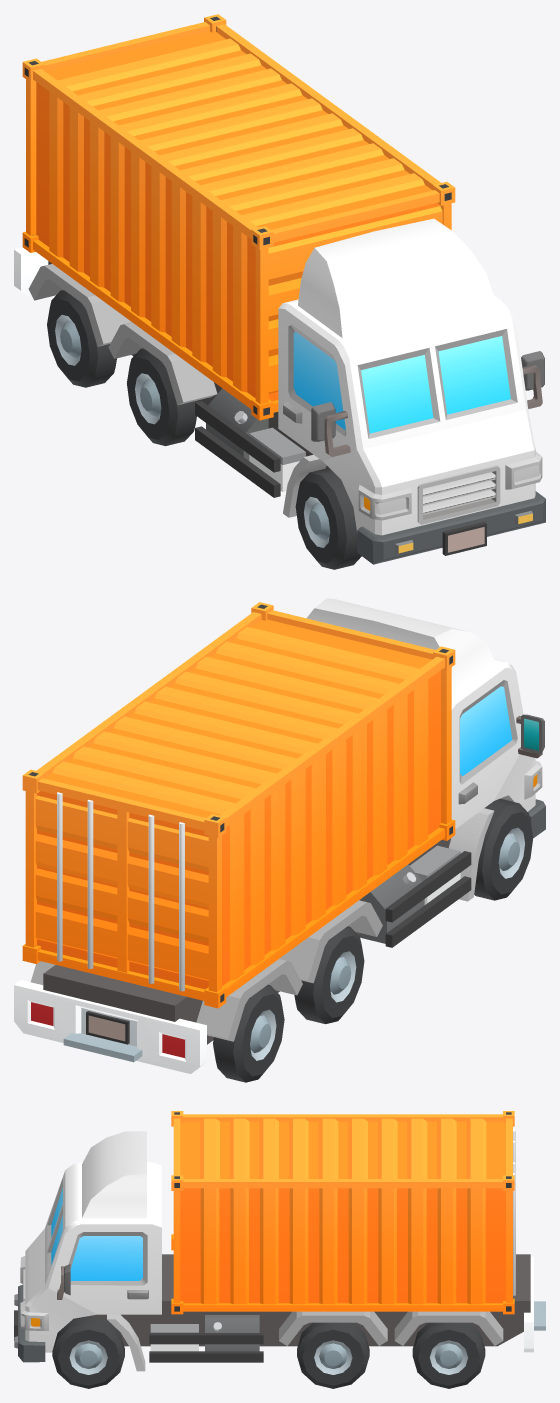
The model's file is Container_Truck_01.glb.
3 views of the same model, one above another, from view 1: azimuth 30°, elevation 25°; view 2: azimuth 150°, elevation 25°; view 3: azimuth 270°, elevation 25° (orthographic). The views are drawn at different scales.
Visible parts, largest first — view 1: Container_Truck_01, Wheel_177, Wheel_178, Wheel_179; view 2: Container_Truck_01, Wheel_177, Wheel_179, Wheel_178; view 3: Container_Truck_01, Wheel_180, Wheel_182, Wheel_181.
Part boxes in pixels (bbox=[...]): Container_Truck_01: bbox=[14, 14, 545, 564]; Wheel_177: bbox=[295, 468, 361, 569]; Wheel_178: bbox=[127, 348, 197, 446]; Wheel_179: bbox=[47, 290, 116, 387]; Container_Truck_01: bbox=[14, 598, 545, 1073]; Wheel_177: bbox=[474, 798, 533, 900]; Wheel_179: bbox=[213, 985, 284, 1082]; Wheel_178: bbox=[294, 926, 364, 1024]; Container_Truck_01: bbox=[14, 1111, 545, 1371]; Wheel_180: bbox=[52, 1316, 124, 1388]; Wheel_182: bbox=[412, 1322, 485, 1388]; Wheel_181: bbox=[297, 1322, 369, 1388].
Size of the model in its own units: 2.72 by 3.28 by 7.51.
Materials: 2 (2 with a texture image).
